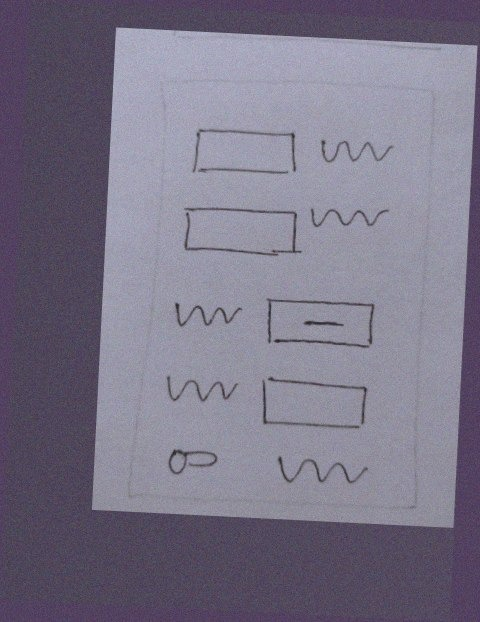button: (257, 290, 383, 355)
switch: (152, 438, 230, 482)
text: (260, 444, 377, 498), (157, 363, 247, 414), (166, 287, 248, 340), (311, 128, 399, 174), (302, 197, 395, 237)
text_input: (253, 366, 373, 444), (176, 198, 305, 263), (185, 120, 302, 185)
